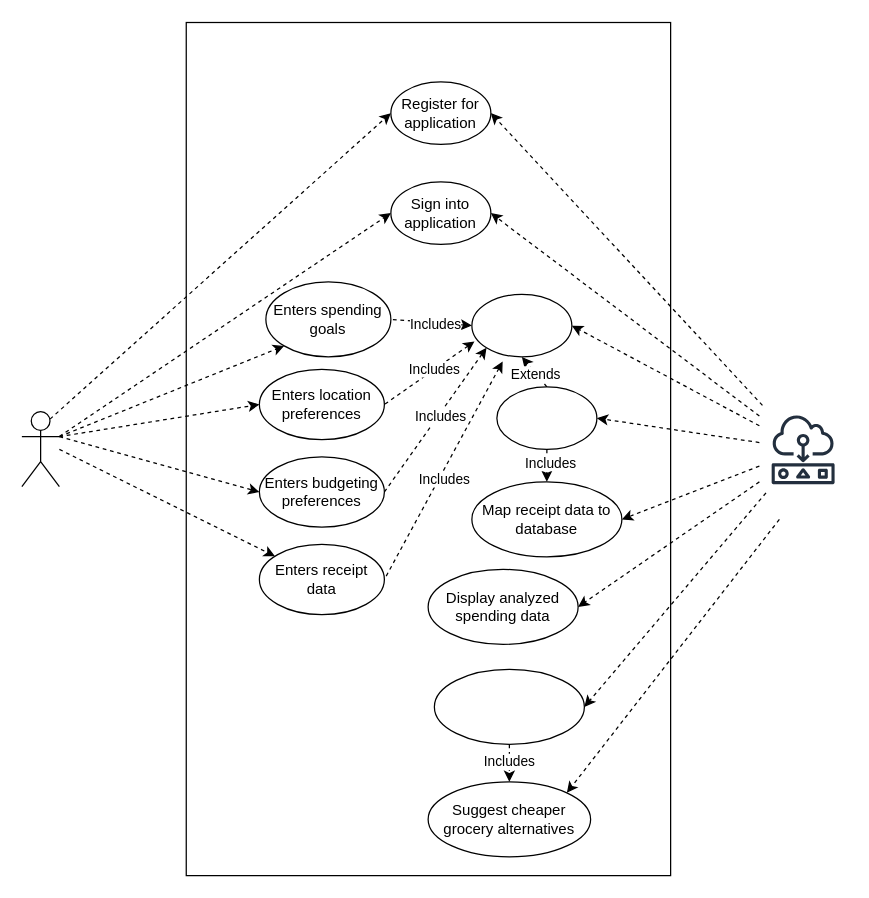
Image size: 869x898. Some labels were removed from this diagram. The shapes that lost their labels are listed below. From the top down, each one's centre as x and y in pixels, then its label:
At pixel 521 325: "Record user inputs".
At pixel 546 417: "Process receipt".
At pixel 40 448: "User".
At pixel 802 448: "System".
At pixel 508 706: "Provide budgeting suggestion".
